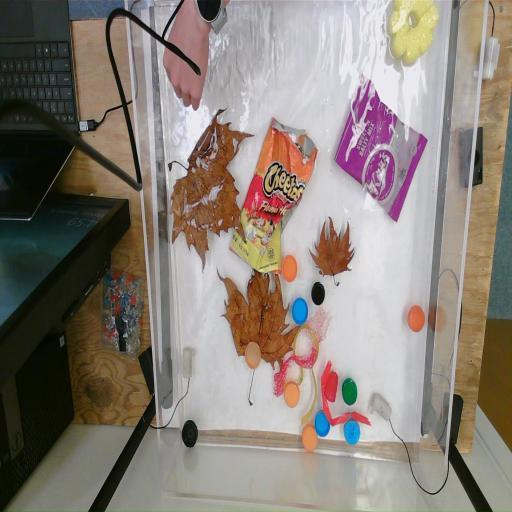Bottle Cap: (244, 341, 262, 370), (407, 304, 425, 333), (292, 296, 308, 326), (182, 419, 198, 449), (283, 381, 300, 409), (301, 424, 318, 452), (341, 378, 358, 406), (344, 418, 360, 446), (314, 410, 330, 437), (283, 256, 298, 284), (312, 281, 326, 305)
Cone Cap: (326, 371, 338, 403)
Leaf: (163, 106, 248, 270), (216, 260, 300, 408), (310, 218, 357, 286)
Netting: (272, 346, 316, 400), (302, 310, 332, 349)
Plastic Bag: (333, 73, 428, 225), (228, 117, 318, 276)
Plastic Strand: (321, 358, 372, 430), (292, 323, 321, 424)
Sponge: (388, 0, 438, 67)
